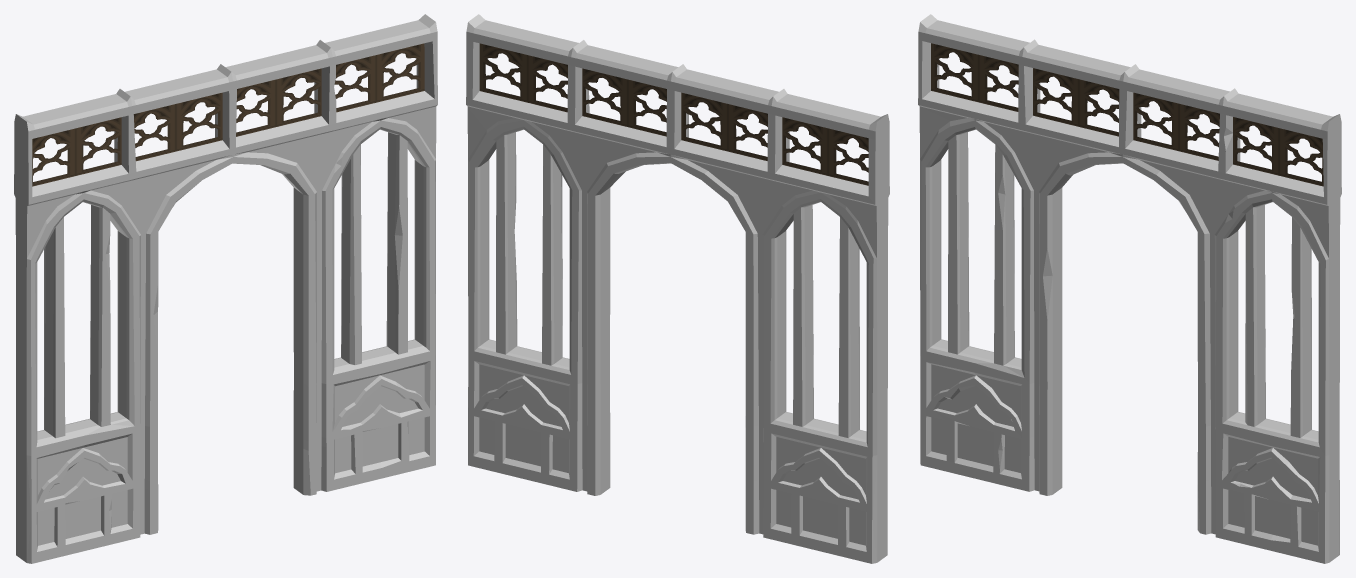
File: SM_Bld_Partition_Door_01.fbx
The picture shows the model from 3 angles, left to right: view 1: azimuth 30°, elevation 25°; view 2: azimuth 150°, elevation 25°; view 3: azimuth 330°, elevation 25°; orthographic projection.
Parts seen in each view (by area): view 1: SM_Bld_Partition_Door_01; view 2: SM_Bld_Partition_Door_01; view 3: SM_Bld_Partition_Door_01.
Boxes of the visible parts, x1,y1,x2,y2 form: SM_Bld_Partition_Door_01: [14, 14, 437, 563]; SM_Bld_Partition_Door_01: [466, 14, 889, 563]; SM_Bld_Partition_Door_01: [918, 14, 1341, 563].
Size of the model in its own units: 250 by 258 by 16.19.
